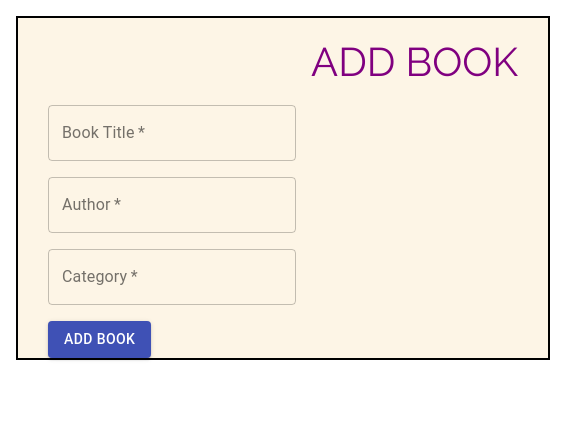
Test case: Test Add book page. › Fill all fields with valid input, check for success message
This screenshot has width=567, height=425.
Type "Java" into the field labelled "Book Title *" at (172, 133), box [48,105,296,161]
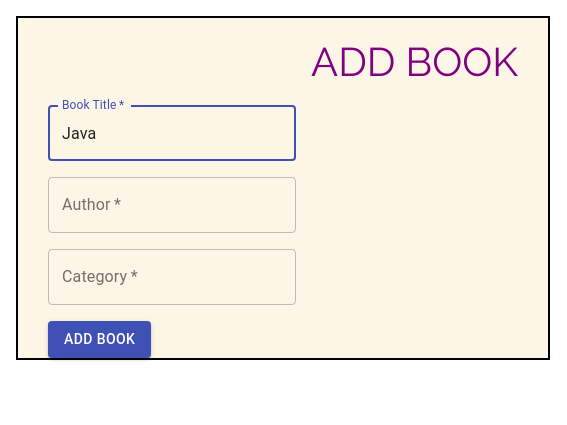
Type "Richardson" into the field next to "Author" at (172, 205), box [48,177,296,233]
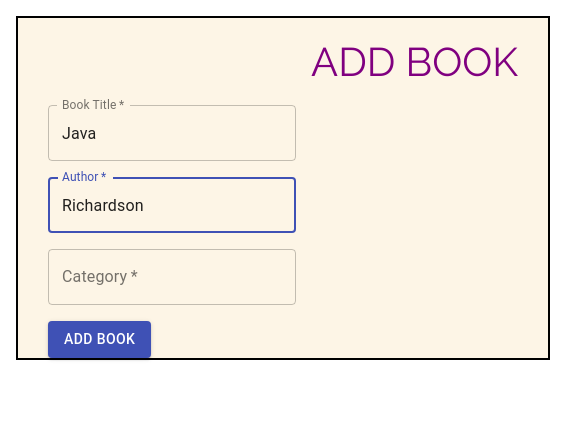
Type "Computer Science" into the field next to "Category" at (172, 277), box [48,249,296,305]
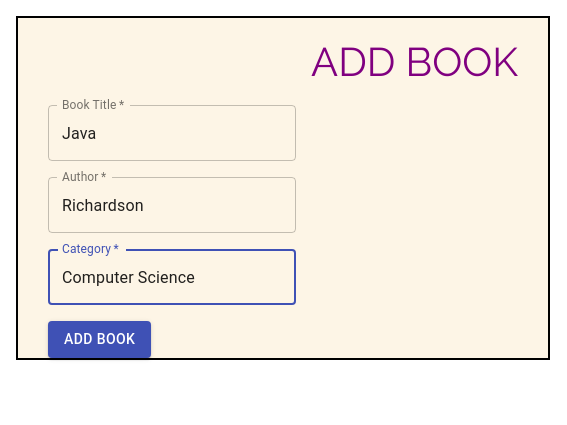
Click the button with test id "addBook" at (100, 339), box [48,321,151,358]
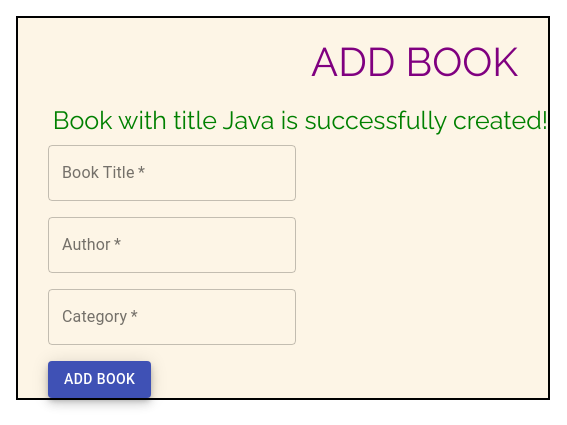
Expected: the text "Book with title Java is successfully created!" is shown, [48,105,548,135]
